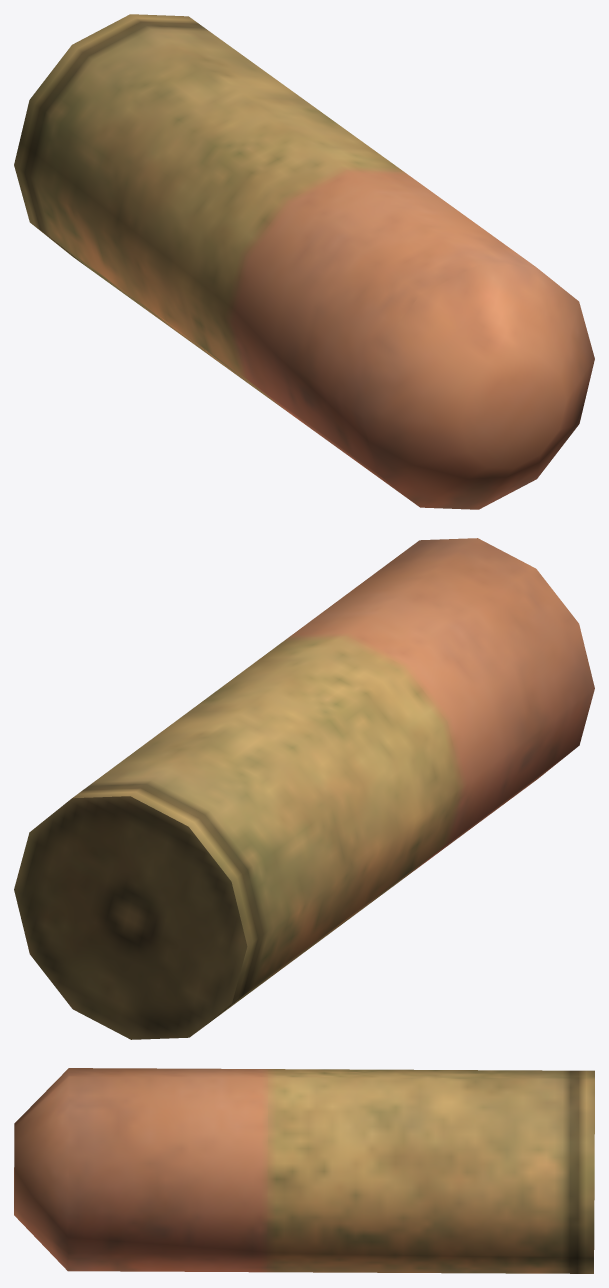
The model's file is madsonD9_bullet.fbx.
3 views of the same model, one above another, from view 1: azimuth 30°, elevation 25°; view 2: azimuth 150°, elevation 25°; view 3: azimuth 270°, elevation 25° (orthographic). The views are drawn at different scales.
Visible parts, largest first — view 1: madsondi_bullet; view 2: madsondi_bullet; view 3: madsondi_bullet.
Part boxes in pixels (left/top/right/bottom): madsondi_bullet: left=14, top=14, right=594, bottom=509; madsondi_bullet: left=14, top=538, right=594, bottom=1039; madsondi_bullet: left=14, top=1068, right=594, bottom=1273.
Size of the model in its own units: 0.00963 by 0.00977 by 0.0274.
